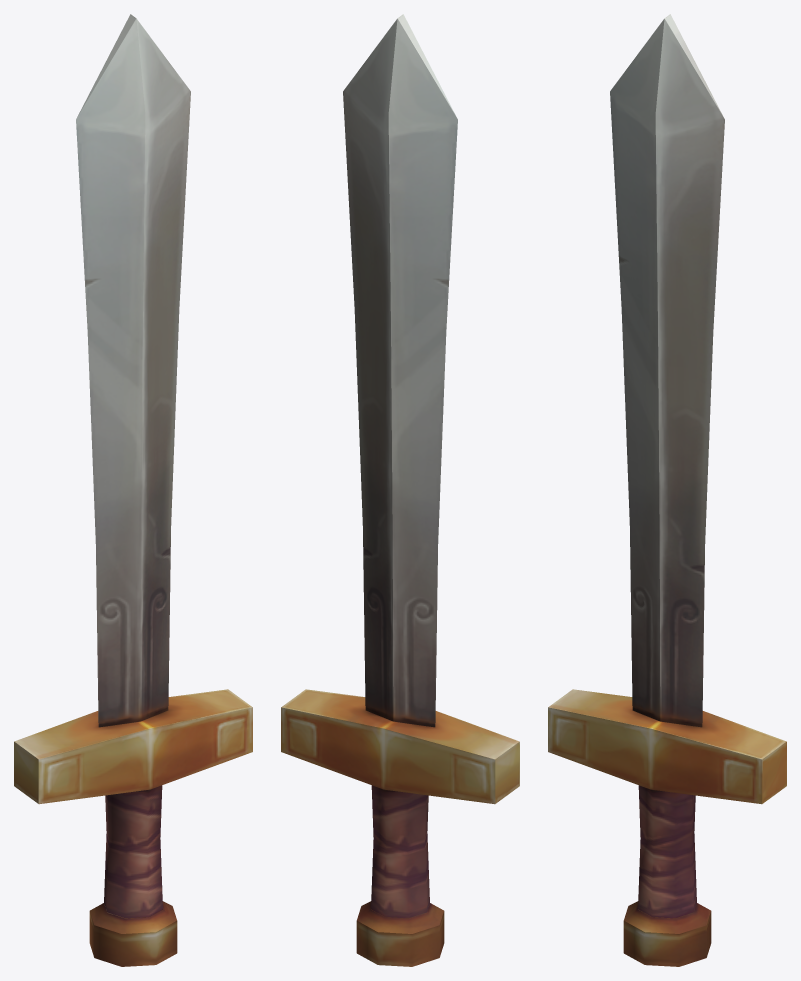
The model's file is basicshapes-sword.glb.
3 views of the same model, side by side, from view 1: azimuth 30°, elevation 25°; view 2: azimuth 150°, elevation 25°; view 3: azimuth 330°, elevation 25° (orthographic).
Visible parts, largest first — view 1: Sword, Sword_Material.002_0.002, Sword_Material.002_0.001; view 2: Sword, Sword_Material.002_0.002, Sword_Material.002_0.001; view 3: Sword, Sword_Material.002_0.002, Sword_Material.002_0.001.
Boxes of the visible parts, bbox=[...] form: Sword: bbox=[14, 14, 252, 918]; Sword_Material.002_0.002: bbox=[136, 19, 190, 721]; Sword_Material.002_0.001: bbox=[89, 901, 177, 966]; Sword: bbox=[281, 14, 519, 918]; Sword_Material.002_0.002: bbox=[343, 19, 397, 721]; Sword_Material.002_0.001: bbox=[356, 901, 444, 966]; Sword: bbox=[548, 19, 786, 918]; Sword_Material.002_0.002: bbox=[655, 14, 724, 727]; Sword_Material.002_0.001: bbox=[623, 901, 711, 966].
Size of the model in its own units: 0.2107 by 0.8772 by 0.0772.
Materials: 1 (1 with a texture image).
